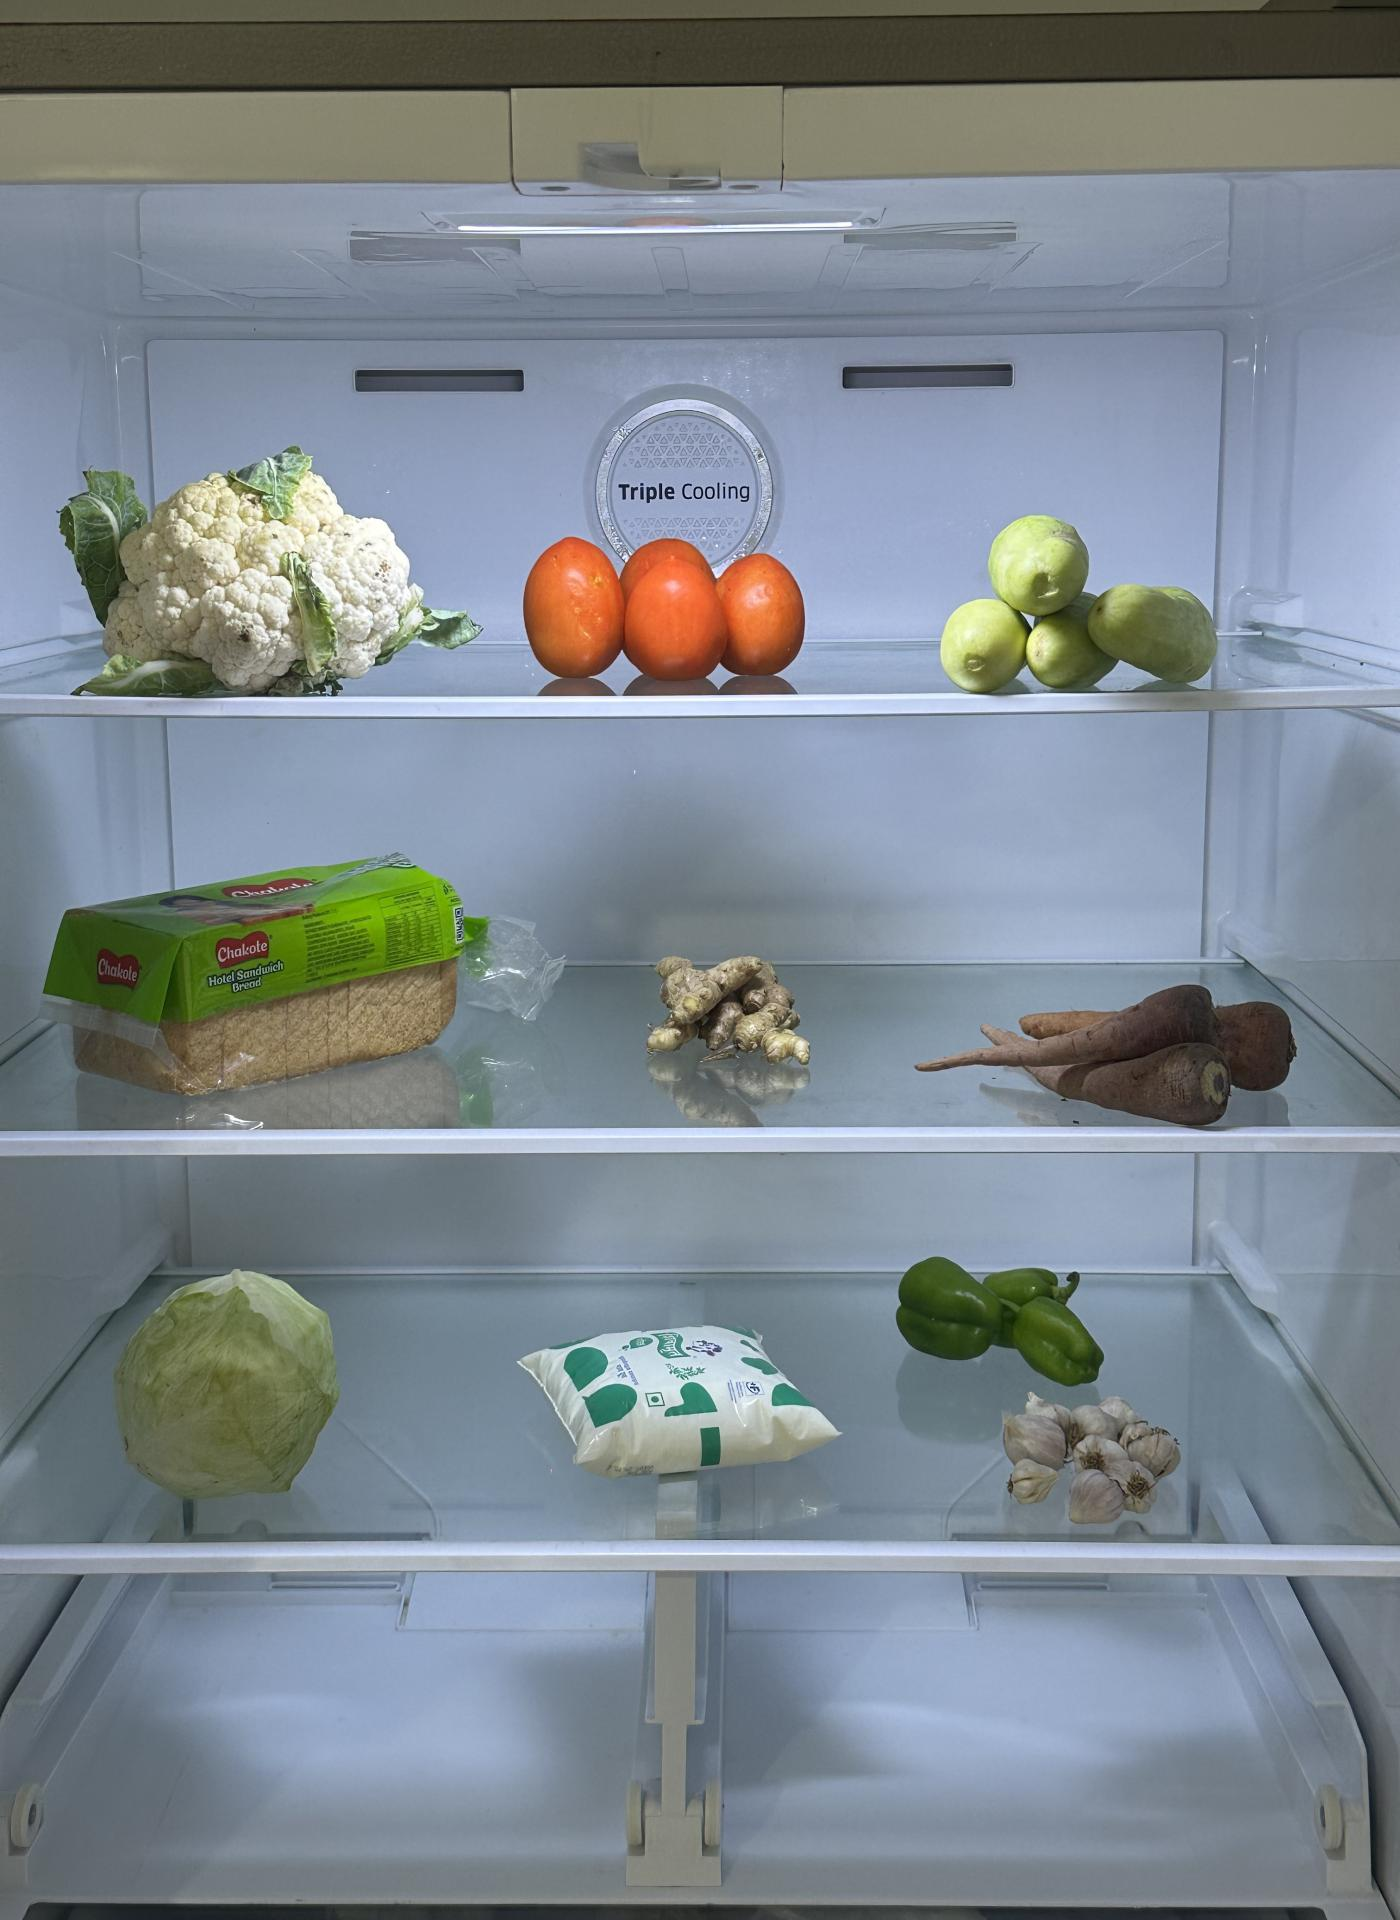bread: (43, 863, 532, 1088)
cabbage: (103, 1263, 343, 1503)
capsicum: (895, 1230, 1106, 1385)
carrots: (950, 972, 1321, 1130)
cauliflower: (66, 440, 447, 696)
cucumber: (941, 511, 1232, 707)
garlic: (1000, 1401, 1184, 1529)
ginger: (625, 938, 832, 1093)
milk: (519, 1306, 839, 1500)
tomato: (523, 534, 807, 692)
